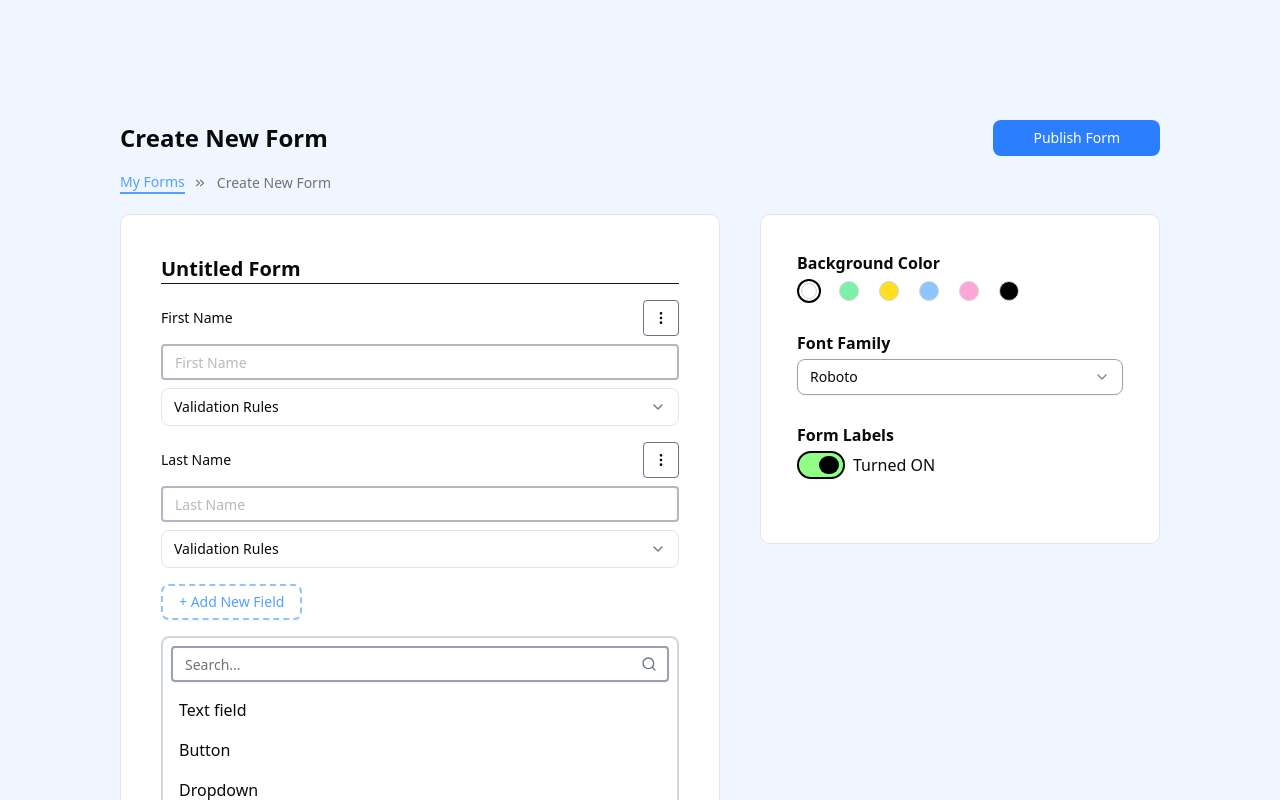
Scenario: Form Builder › should delete a field
Expected: the element with test id "field-container-1" is shown, [161,300,679,426]
Click the button with test id "field-menu-1": (661, 318) [643,300,679,336]
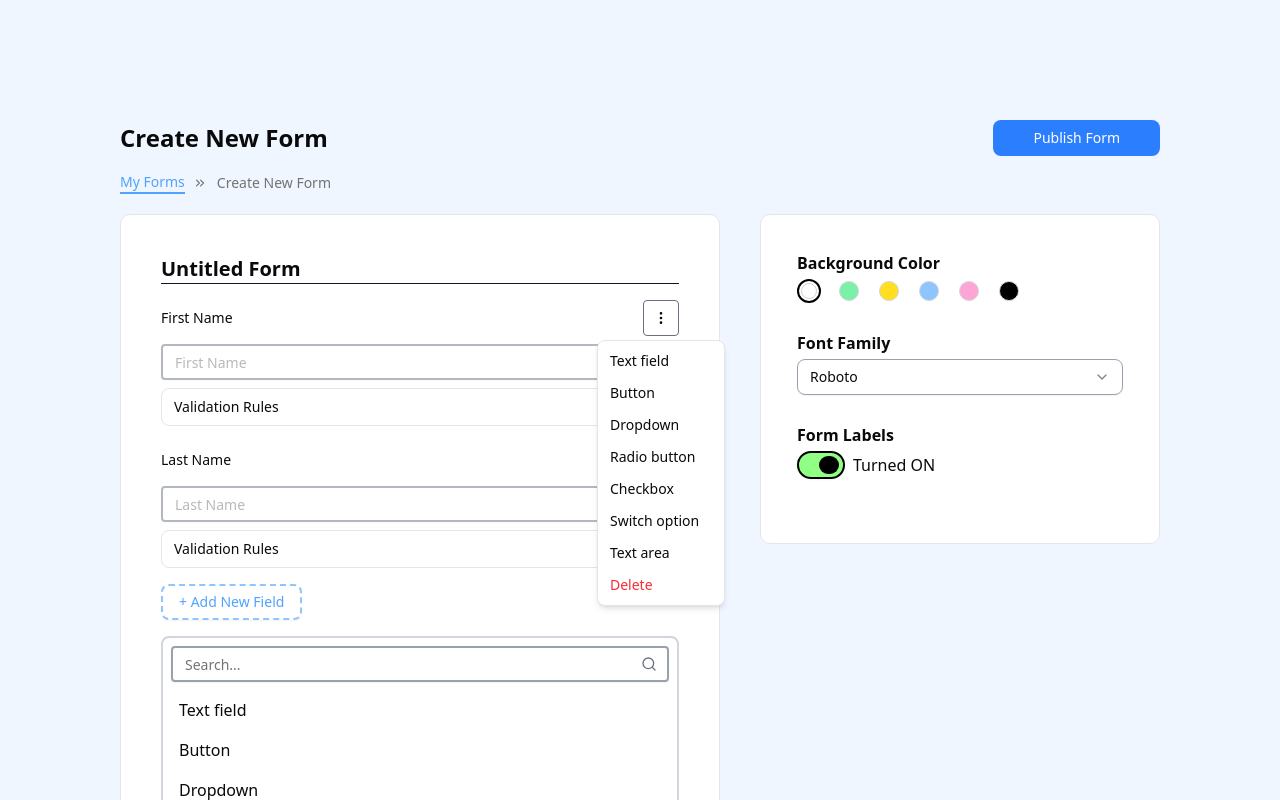
Click the menu item with test id "field-delete-1": (632, 585) [610,575,653,594]
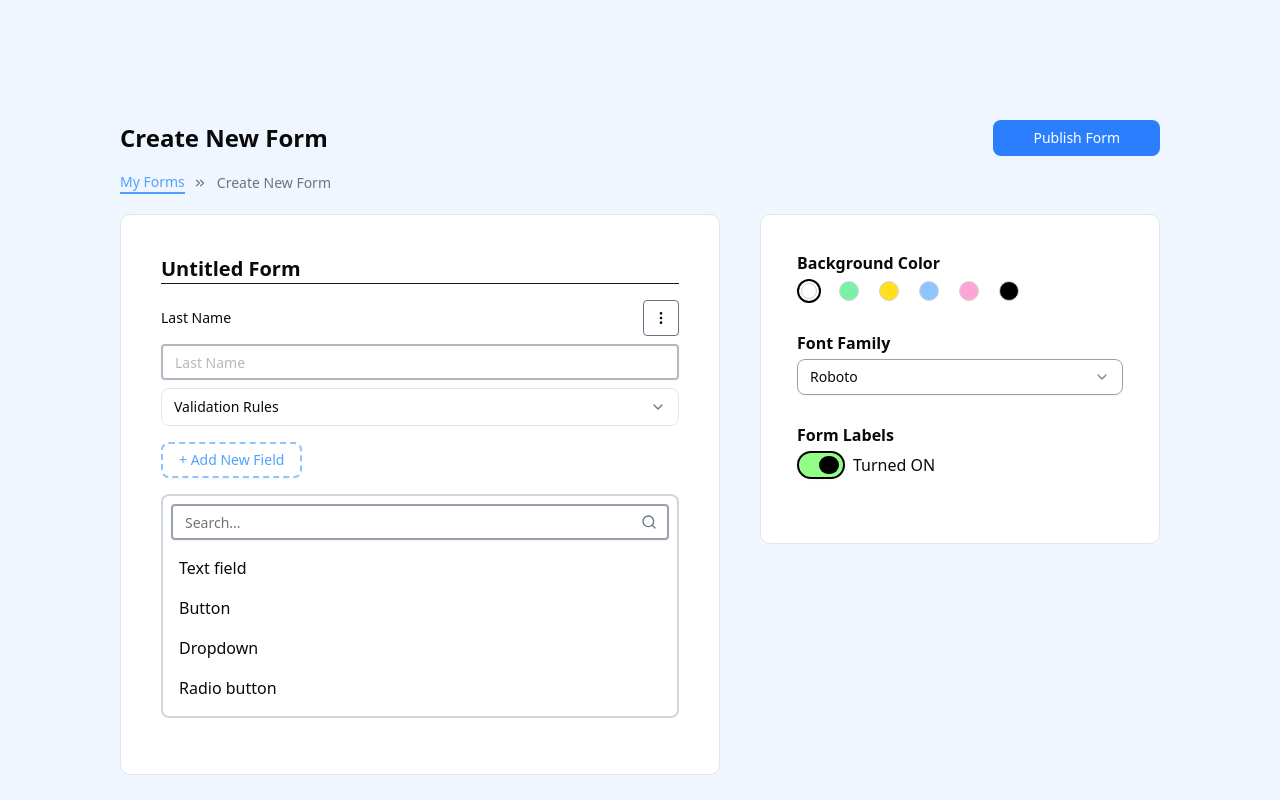
Expected: the element with test id "field-container-1" is gone
